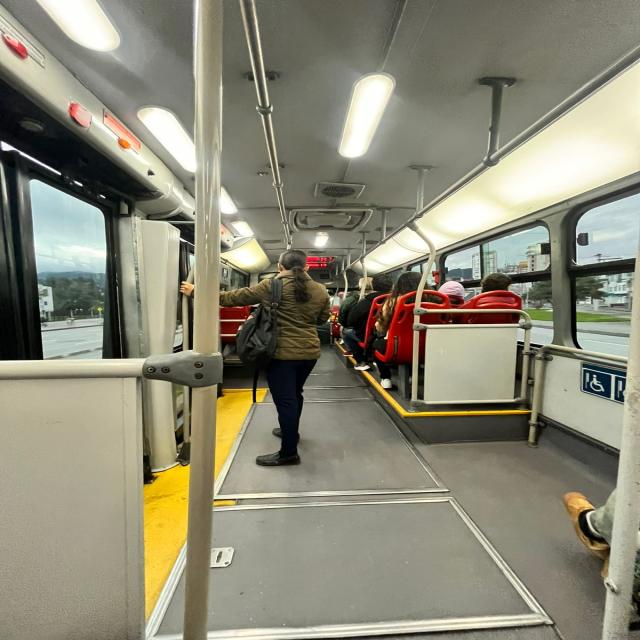persona: (268, 250, 314, 294), (480, 268, 514, 300), (396, 272, 430, 300), (438, 280, 471, 307), (370, 275, 398, 296)
